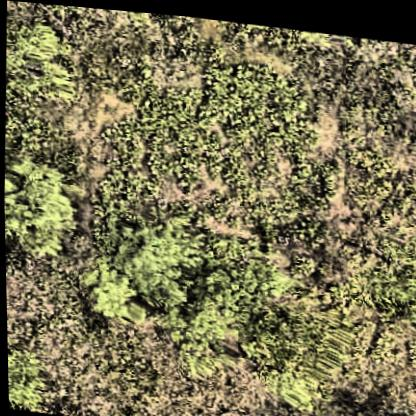tree-top: (81, 178, 202, 337), (3, 149, 76, 268), (204, 224, 285, 321), (6, 0, 71, 105), (163, 301, 231, 383), (6, 343, 52, 412)
